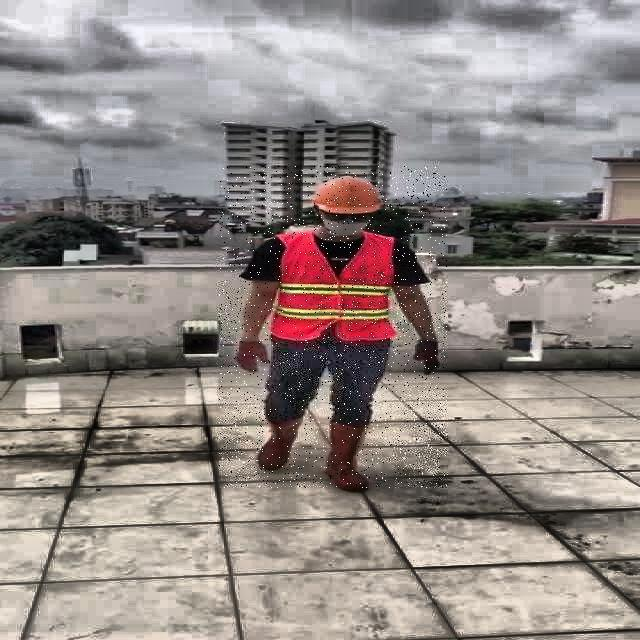safety_helmet: (309, 172, 386, 216)
safety_jacket: (274, 234, 398, 340)
